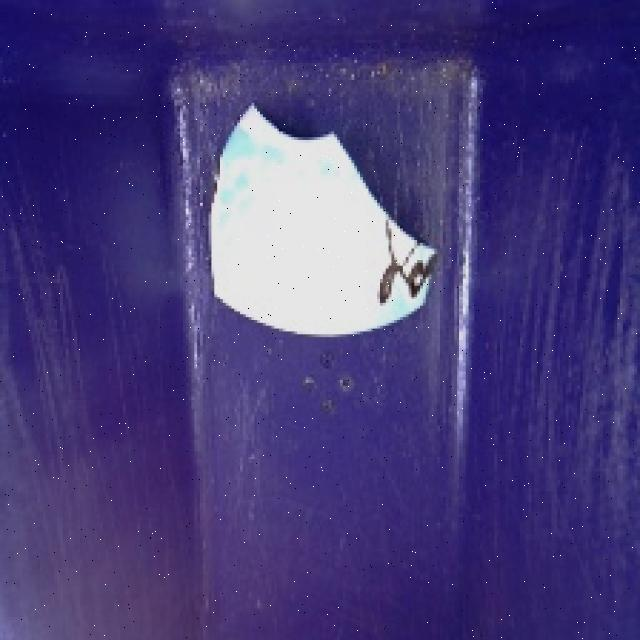china: (203, 97, 449, 346)
